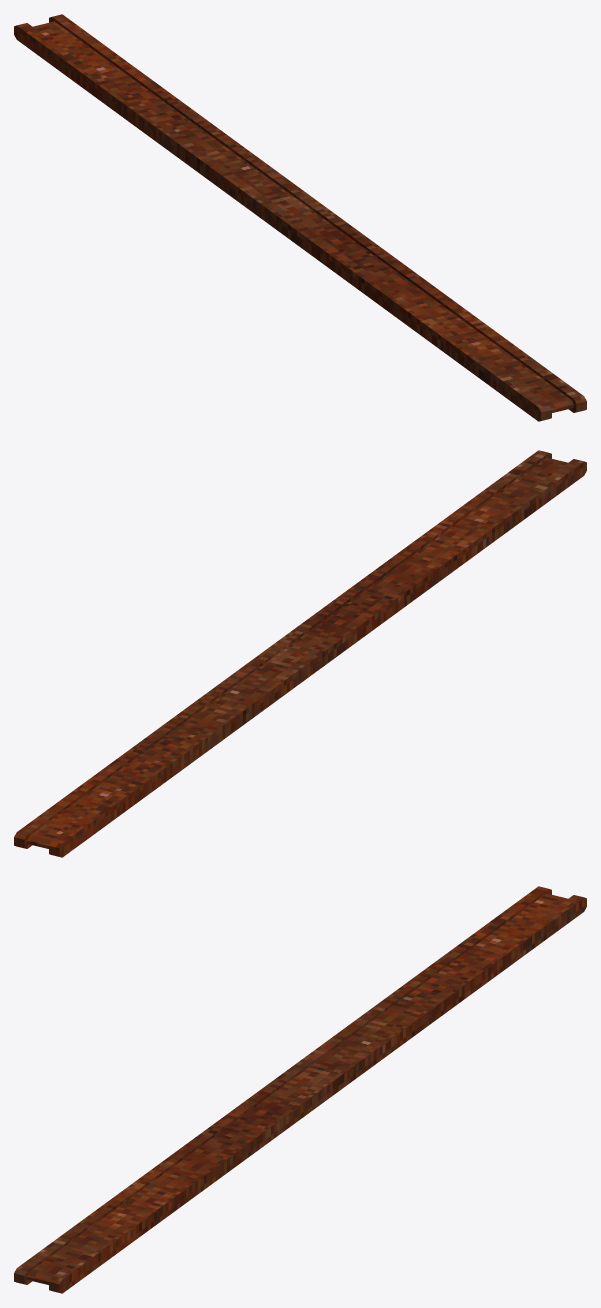
File: shipbeam.fbx
The picture shows the model from 3 angles, top to bottom: view 1: azimuth 30°, elevation 25°; view 2: azimuth 150°, elevation 25°; view 3: azimuth 330°, elevation 25°; orthographic projection.
Parts seen in each view (by area): view 1: geo_shipbeam; view 2: geo_shipbeam; view 3: geo_shipbeam.
Boxes of the visible parts, x1,y1,x2,y2 form: geo_shipbeam: (14, 14, 586, 421); geo_shipbeam: (14, 450, 586, 857); geo_shipbeam: (14, 886, 586, 1293).
Bounding box in the file's own units: 200 × 60 × 4000.
